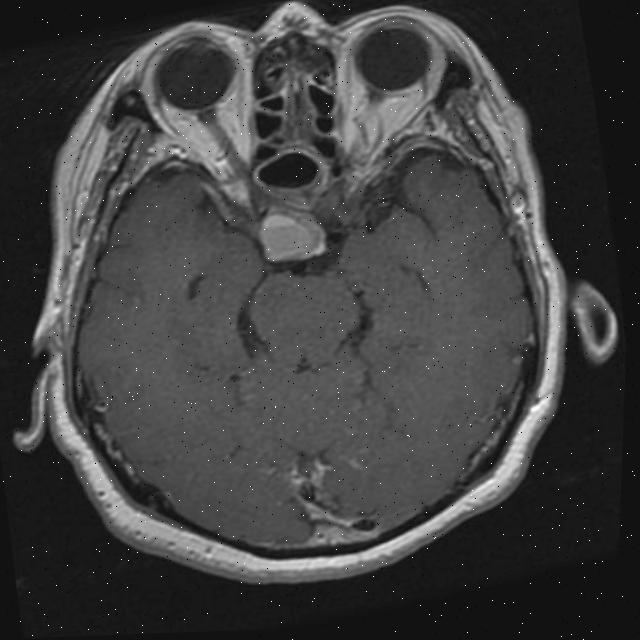Pituitary: (254, 203, 331, 268)
